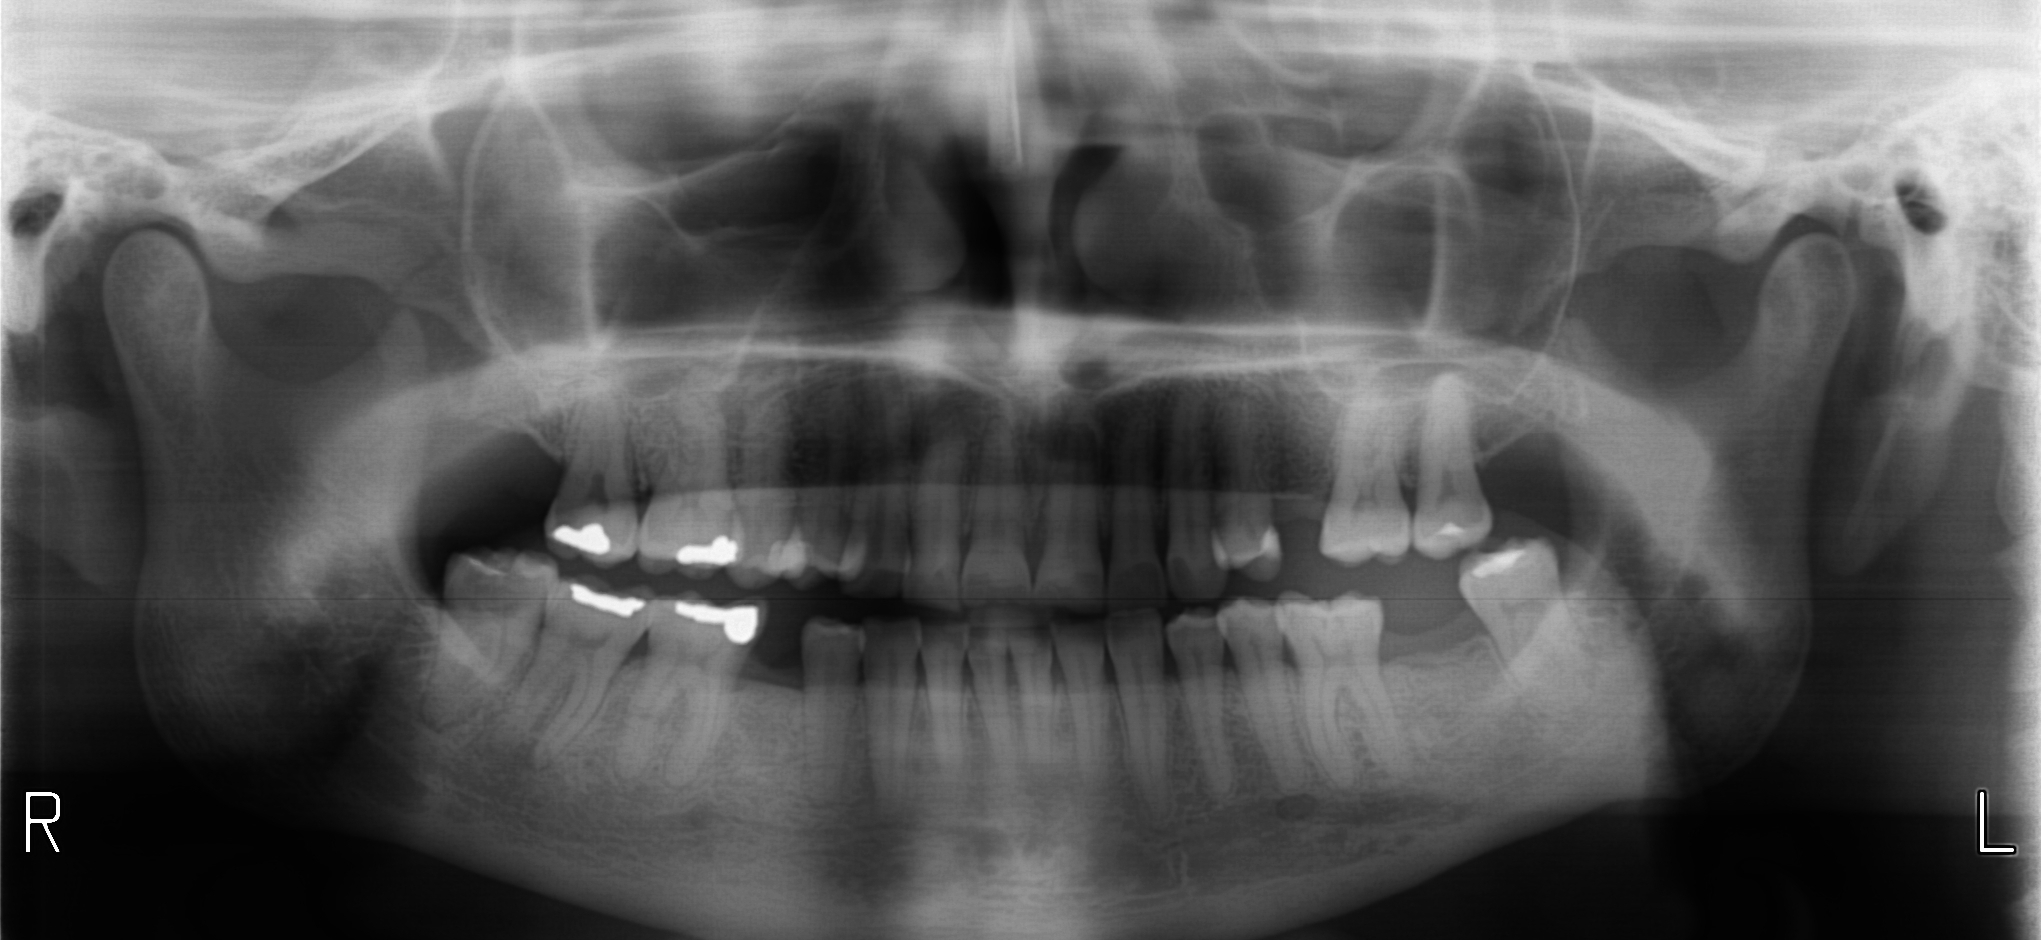cavity: (914, 654, 916, 674)
